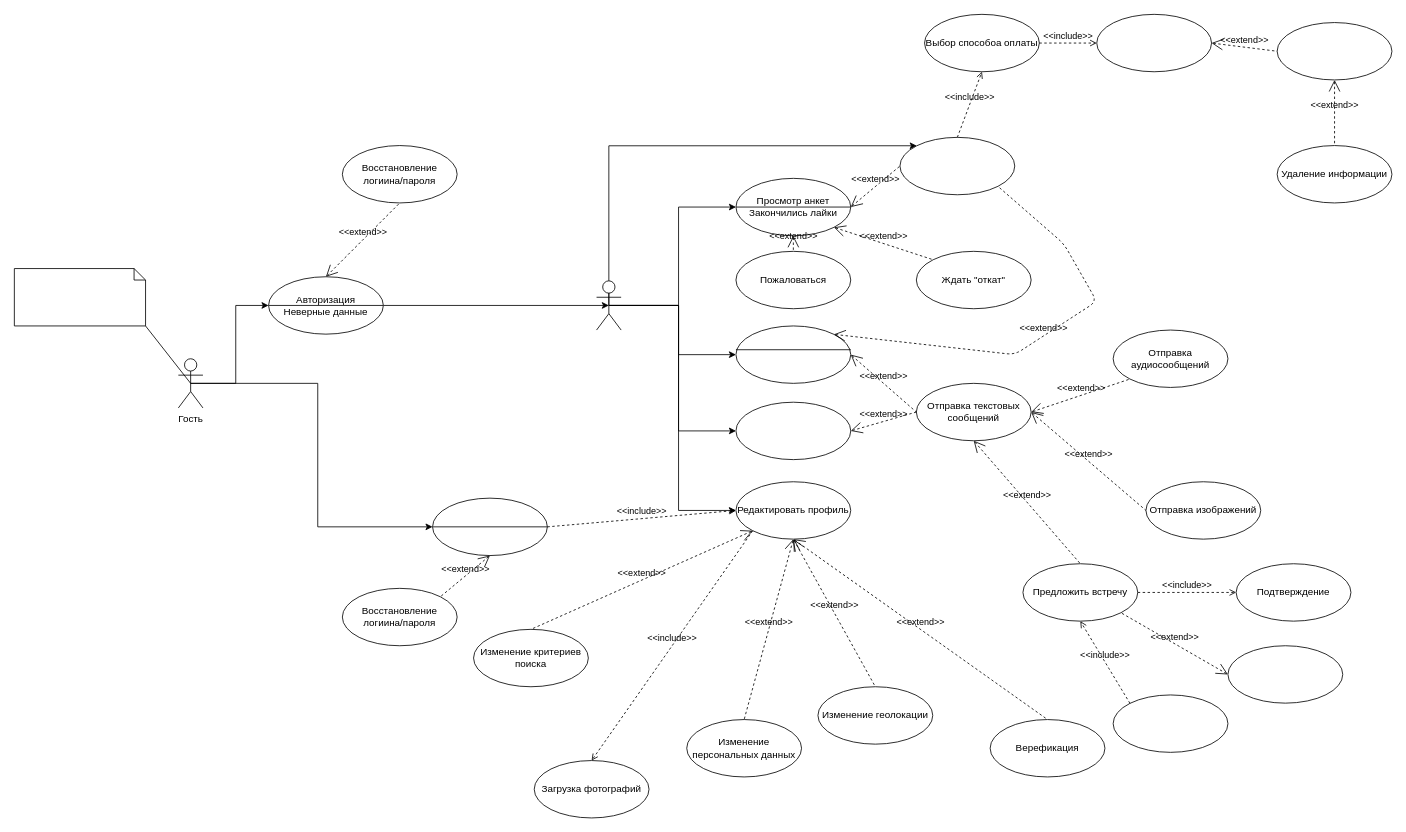
This 1406x832 diagram has some shape labels left out. Here are the shapes that lost their labels. From the top down, the centre of each, then its label:
(x=1154, y=43): Ввод платёжной информации
(x=1334, y=51): Редактирование платёжной информации
(x=957, y=166): Купить премиум
(x=80, y=297): Зашедший на главную сайта, но не прошедший авторизацию/регистрацию человек
(x=608, y=305): Пользователь
(x=793, y=354): Просмотр симпатий Взаимная Вас лайкнули
(x=793, y=430): Просмотр сообщений
(x=489, y=526): Регистрация Уже зарегестрированны
(x=1285, y=674): Подтверждение за (n минут до)
(x=1170, y=723): Назначить дату, место и время
